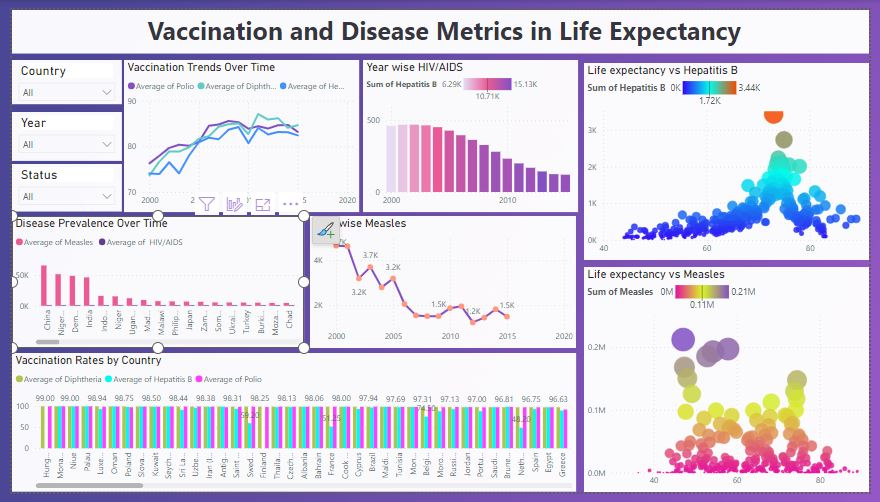

The dashboard page shown, as its layout file describes it:
{"tool":"powerbi","page":{"name":"Disease Metrics in Life Expectancy","canvas":[1280,720],"ordinal":2},"visuals":[{"type":"textbox","box":[0,0,1280.2,64.8],"z":0},{"type":"lineChart","title":"Vaccination Trends Over Time","fields":{"Category":["Life Expectancy Data.Year"],"Y":["Avg(Life Expectancy Data.Polio)","Avg(Life Expectancy Data.Diphtheria)","Avg(Life Expectancy Data.Hepatitis B)"]},"box":[167.2,74.6,350.7,226.9],"z":1000},{"type":"clusteredColumnChart","title":"Vaccination Rates by Country","fields":{"Category":["Life Expectancy Data.Country"],"Y":["Avg(Life Expectancy Data.Diphtheria)","Avg(Life Expectancy Data.Hepatitis B)","Avg(Life Expectancy Data.Polio)"]},"box":[0,512.6,842.4,207.4],"z":2000},{"type":"slicer","fields":{"Values":["Life Expectancy Data.Country"]},"box":[0,74.6,164.2,65.7],"z":3000},{"type":"slicer","fields":{"Values":["Life Expectancy Data.Year"]},"box":[0,151.7,164.2,73.2],"z":4000},{"type":"columnChart","title":"Year wise HIV/AIDS  ","fields":{"Category":["Life Expectancy Data.Year"],"Y":["Sum(Life Expectancy Data. HIV/AIDS)"]},"box":[523.9,74.6,320.9,226.9],"z":5000},{"type":"slicer","fields":{"Values":["Life Expectancy Data.Status"]},"box":[0,230.3,164.2,71.4],"z":6000},{"type":"scatterChart","title":"Life expectancy vs Measles ","fields":{"X":["Life Expectancy Data.Life expectancy "],"Y":["Sum(Life Expectancy Data.Measles )"],"Size":["Sum(Life Expectancy Data.Measles )"]},"box":[853.9,383,426.2,337],"z":7000},{"type":"scatterChart","title":" Life expectancy vs Hepatitis B","fields":{"X":["Life Expectancy Data.Life expectancy "],"Y":["Sum(Life Expectancy Data.Hepatitis B)1"],"Size":["Sum(Life Expectancy Data.Hepatitis B)1"]},"box":[853.9,79.2,426.2,293.8],"z":8000},{"type":"lineChart","title":"Year wise Measles  ","fields":{"Category":["Life Expectancy Data.Year"],"Y":["Avg(Life Expectancy Data.Measles )"]},"box":[444.8,307.5,397,197],"z":9000},{"type":"clusteredColumnChart","title":"Disease Prevalence Over Time","fields":{"Y":["Avg(Life Expectancy Data.Measles )","Avg(Life Expectancy Data. HIV/AIDS)"],"Category":["Life Expectancy Data.Country"]},"box":[0,307.5,435.8,197],"z":9001}]}

Visuals, with their boxes in screenshot pixels (x1, y1, x2, y2), scaled from the page's 1280x720 canvas onto the 880x502 screenshot:
textbox: <region>0, 0, 879, 45</region>
"Vaccination Trends Over Time" lineChart: <region>115, 52, 356, 210</region>
"Vaccination Rates by Country" clusteredColumnChart: <region>0, 357, 579, 501</region>
slicer - Life Expectancy Data.Country: <region>0, 52, 113, 98</region>
slicer - Life Expectancy Data.Year: <region>0, 106, 113, 157</region>
"Year wise HIV/AIDS  " columnChart: <region>360, 52, 581, 210</region>
slicer - Life Expectancy Data.Status: <region>0, 161, 113, 210</region>
"Life expectancy vs Measles " scatterChart: <region>587, 267, 879, 501</region>
" Life expectancy vs Hepatitis B" scatterChart: <region>587, 55, 879, 260</region>
"Year wise Measles  " lineChart: <region>306, 214, 579, 352</region>
"Disease Prevalence Over Time" clusteredColumnChart: <region>0, 214, 300, 352</region>
